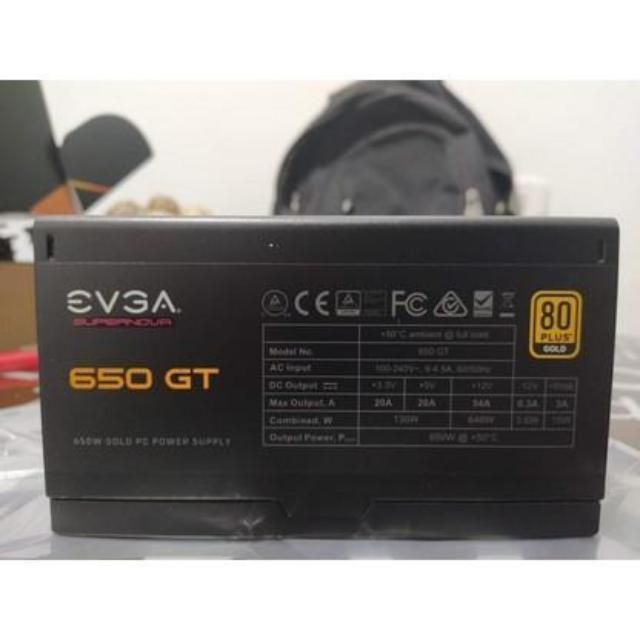PSU: (27, 195, 621, 553)
